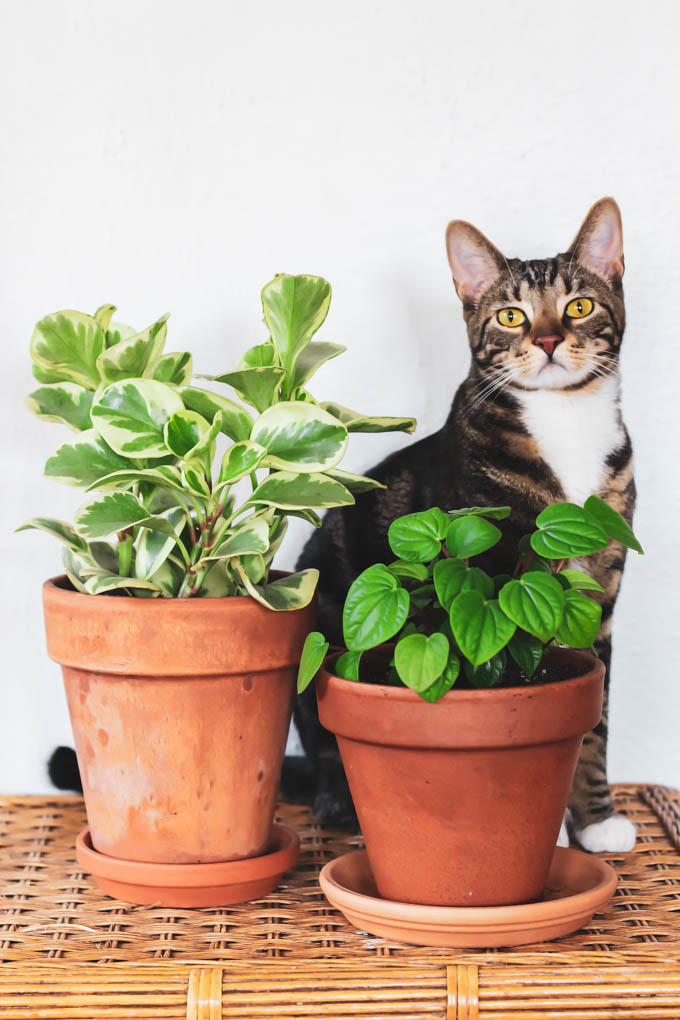cat: (274, 117, 666, 862)
plant: (16, 254, 360, 713), (294, 451, 635, 741)
